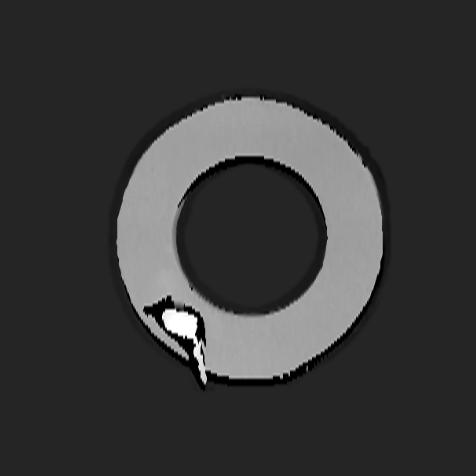defect: (143, 294, 207, 387)
